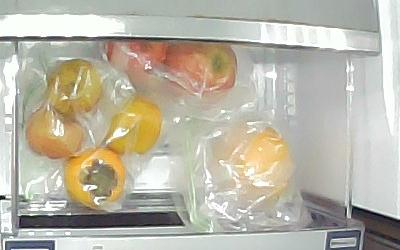apple_vinyl: (169, 42, 237, 106), (105, 40, 169, 90)
grapefruit_vinyl: (212, 124, 292, 207)
persimmon_vinyl: (65, 148, 127, 209), (105, 96, 160, 154)
prune_vinyl: (43, 58, 105, 117), (26, 107, 85, 160)
